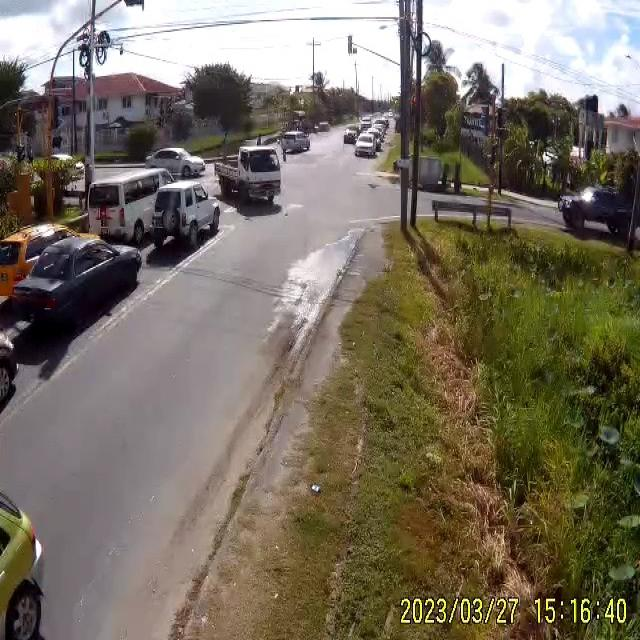car: (5, 236, 143, 339), (87, 166, 174, 248), (2, 222, 83, 300), (153, 180, 222, 248), (560, 186, 630, 239), (146, 147, 204, 179), (280, 132, 310, 154), (356, 133, 378, 156)
truck: (219, 144, 285, 206)
